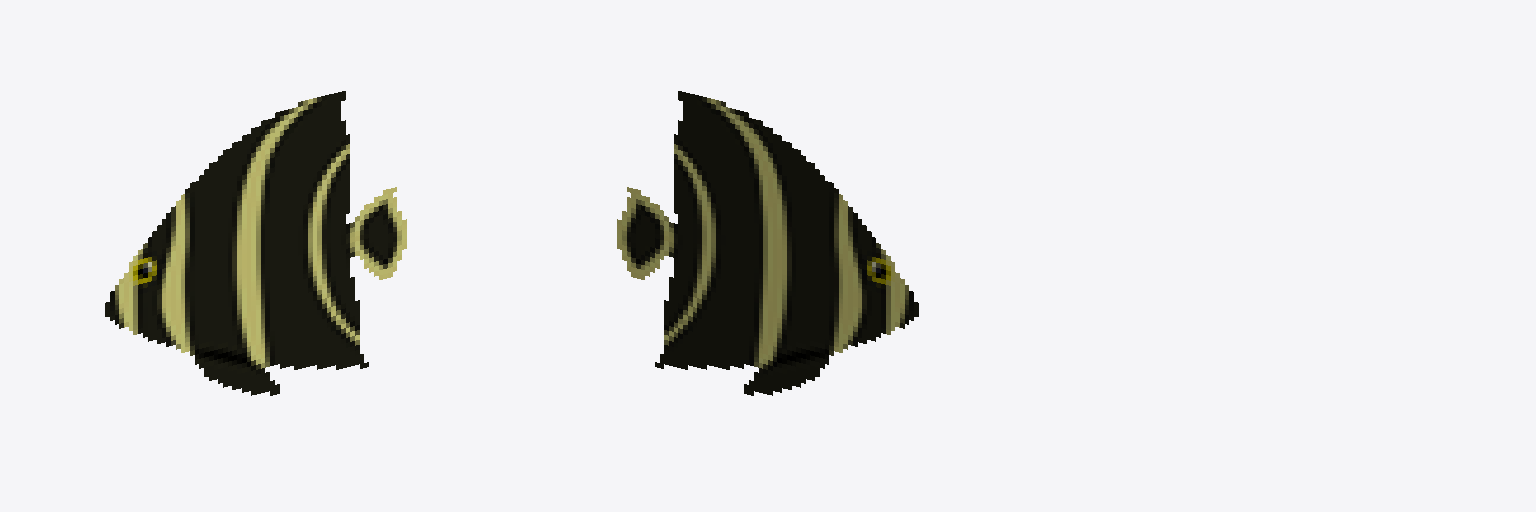
The picture shows the model from 3 angles: view 1: azimuth 30°, elevation 25°; view 2: azimuth 150°, elevation 25°; view 3: azimuth 270°, elevation 25°; orthographic projection.
Parts seen in each view (by area): view 1: 平面; view 2: 平面; view 3: none.
Part boxes in pixels (x1,y1,x2,y2): 平面: (105,91,406,395); 平面: (617,91,918,395).
Size of the model in its own units: 2.2 by 2 by 0.
1 materials, 1 textured.